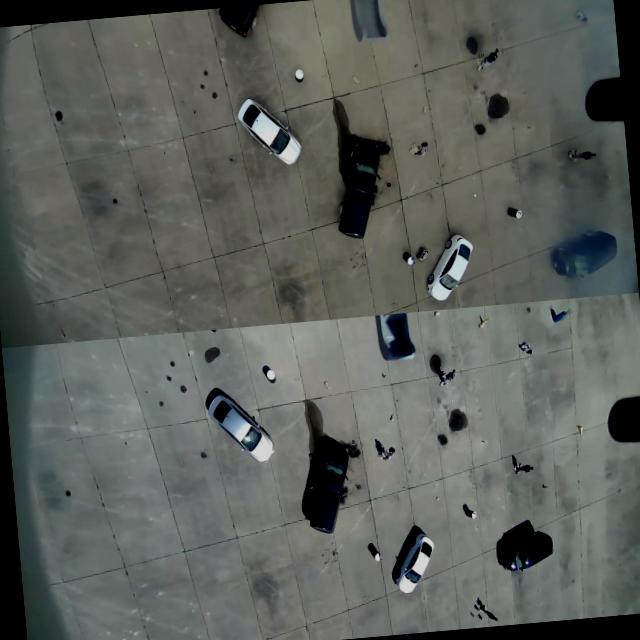car: (200, 374, 282, 478), (298, 426, 354, 542), (332, 131, 385, 243), (236, 92, 302, 174), (542, 220, 627, 280), (392, 519, 442, 607), (424, 222, 476, 302), (496, 521, 559, 582)
